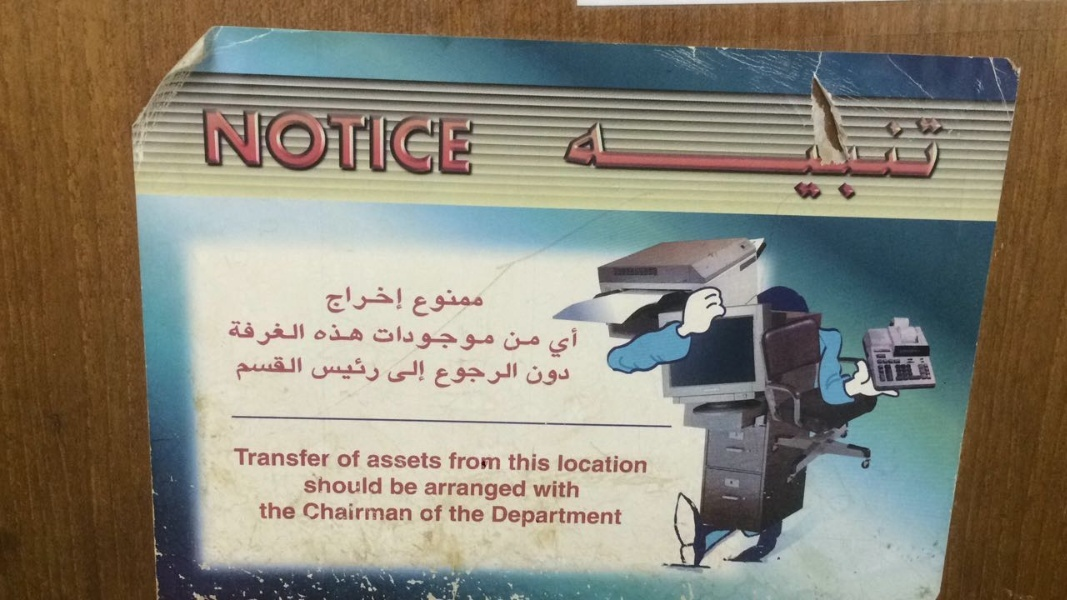text: (929, 116, 945, 207), (577, 116, 592, 207), (593, 116, 608, 207), (609, 116, 624, 207), (625, 116, 640, 207), (641, 116, 656, 207), (657, 116, 672, 207), (673, 116, 688, 207), (689, 116, 704, 207), (705, 116, 720, 207), (721, 116, 736, 207), (737, 116, 752, 207), (753, 116, 768, 207), (769, 116, 784, 207), (785, 116, 800, 207), (801, 116, 816, 207), (817, 116, 832, 207), (833, 116, 848, 207), (849, 116, 864, 207), (865, 116, 880, 207), (881, 116, 896, 207), (897, 116, 912, 207), (913, 116, 928, 207), (209, 109, 224, 178), (225, 109, 240, 178), (241, 109, 256, 178), (257, 109, 272, 178), (273, 109, 288, 178), (289, 109, 304, 178), (305, 109, 320, 178), (321, 109, 336, 178), (337, 109, 352, 178), (353, 109, 368, 178), (369, 109, 384, 178), (385, 109, 400, 178), (401, 109, 416, 178), (417, 109, 432, 178), (433, 109, 448, 178), (449, 109, 464, 178), (465, 109, 476, 178), (201, 109, 208, 178), (561, 327, 576, 359), (417, 287, 432, 318), (433, 287, 448, 318), (449, 287, 464, 318), (465, 287, 480, 318), (385, 286, 401, 315), (385, 324, 400, 353), (401, 324, 416, 353), (417, 324, 432, 353), (433, 324, 448, 353), (449, 324, 464, 353), (465, 324, 480, 353), (337, 286, 352, 315), (353, 286, 368, 315), (369, 286, 384, 315), (241, 354, 256, 382), (257, 354, 272, 382), (273, 354, 288, 382), (449, 361, 464, 389), (465, 361, 480, 389), (481, 361, 496, 389), (497, 361, 512, 389), (481, 324, 495, 353), (241, 320, 256, 347), (257, 320, 272, 347), (273, 320, 288, 347), (289, 320, 304, 347), (321, 356, 336, 382), (337, 356, 352, 382), (353, 356, 368, 382), (289, 354, 302, 382), (401, 360, 416, 384), (433, 480, 448, 503), (449, 480, 464, 503), (465, 480, 480, 503), (481, 480, 496, 503), (497, 480, 512, 503), (609, 506, 625, 527), (436, 361, 448, 389), (228, 320, 240, 347), (550, 327, 560, 359), (373, 324, 384, 353), (561, 454, 576, 475), (577, 454, 592, 475), (593, 454, 608, 475), (609, 454, 624, 475), (625, 454, 640, 475), (497, 506, 512, 527), (513, 506, 528, 527), (529, 506, 544, 527), (545, 506, 560, 527), (561, 506, 576, 527), (577, 506, 592, 527), (593, 506, 608, 527), (513, 331, 528, 352), (529, 365, 544, 386), (545, 365, 560, 386), (369, 356, 381, 382), (241, 448, 256, 468), (257, 448, 272, 468), (273, 448, 288, 468), (289, 448, 304, 468), (305, 448, 320, 468), (513, 480, 526, 503), (465, 452, 480, 471), (481, 452, 496, 471), (305, 476, 320, 495), (321, 476, 336, 495), (337, 476, 352, 495), (353, 476, 368, 495), (305, 502, 320, 521), (321, 502, 336, 521), (337, 502, 352, 521), (353, 502, 368, 521), (369, 502, 384, 521), (385, 502, 400, 521), (337, 450, 352, 468), (513, 453, 528, 471), (529, 453, 544, 471), (401, 478, 416, 496), (273, 502, 288, 520), (321, 323, 336, 341), (337, 323, 352, 341), (450, 452, 464, 471), (369, 476, 383, 495), (465, 506, 480, 523), (545, 481, 560, 498), (561, 481, 576, 498), (369, 453, 384, 469), (385, 453, 400, 469), (401, 453, 416, 469), (417, 453, 432, 469), (390, 360, 400, 384), (450, 506, 464, 523), (529, 331, 540, 352), (232, 354, 240, 382), (531, 481, 544, 498), (321, 448, 332, 468), (420, 504, 432, 522), (260, 502, 272, 520), (353, 323, 365, 341), (417, 360, 426, 384), (502, 331, 512, 352), (401, 502, 412, 521), (423, 480, 432, 503), (561, 365, 570, 386), (313, 356, 320, 382), (433, 504, 443, 522), (330, 286, 336, 315), (391, 478, 400, 496), (433, 453, 443, 469), (641, 454, 648, 475), (353, 450, 361, 468), (312, 323, 320, 341), (233, 448, 240, 468), (513, 361, 518, 389), (289, 502, 296, 520), (545, 453, 551, 471), (575, 116, 576, 207), (481, 506, 486, 523), (497, 452, 501, 471), (577, 327, 579, 359), (493, 506, 496, 527), (481, 287, 483, 318), (577, 481, 580, 498), (526, 365, 528, 386), (510, 453, 512, 471), (305, 320, 306, 347), (559, 454, 560, 475), (417, 478, 418, 496)
